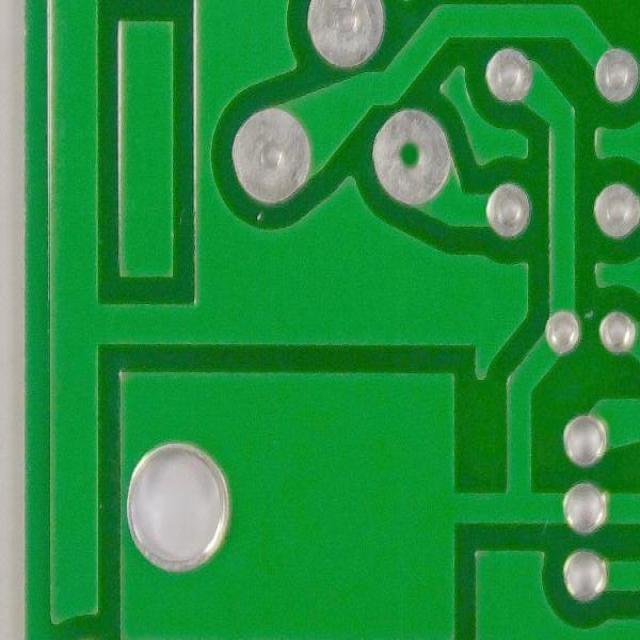missing hole: (368, 104, 453, 212)
